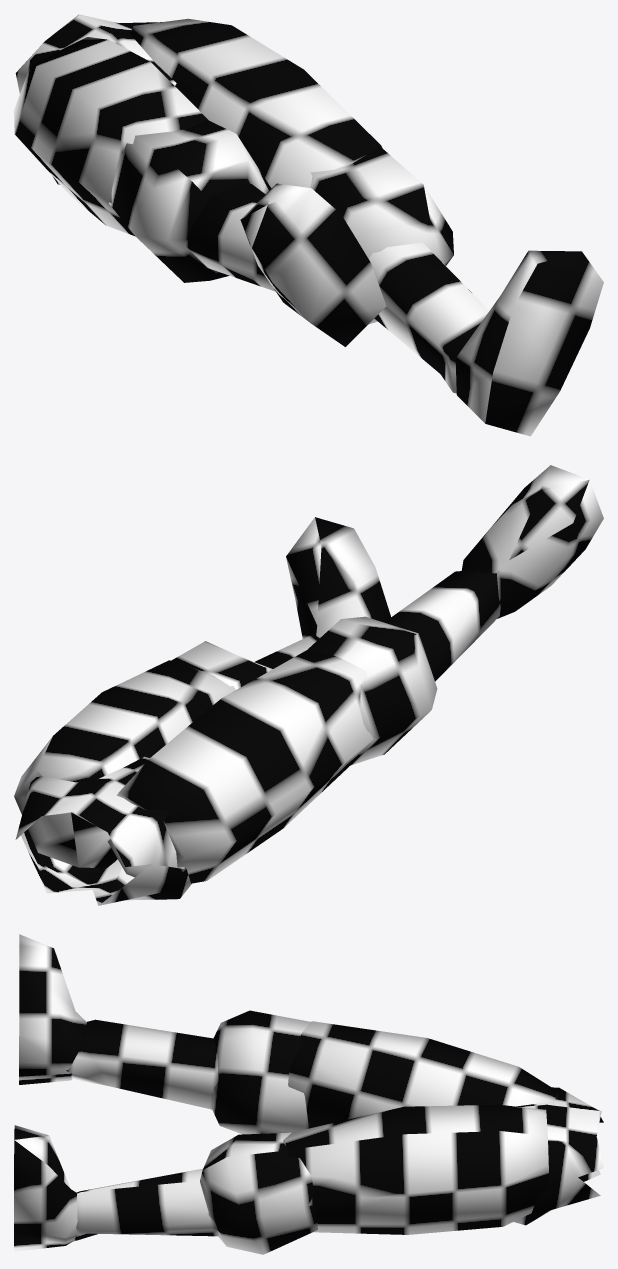
Rendered from initarlg15.dae.
3 views of the same model, one above another, from view 1: azimuth 30°, elevation 25°; view 2: azimuth 150°, elevation 25°; view 3: azimuth 270°, elevation 25° (orthographic). The views are drawn at different scales.
Visible parts, largest first — view 1: armor; view 2: armor; view 3: armor.
Boxes of the visible parts, x1,y1,x2,y2 form: armor: (14, 14, 603, 436); armor: (14, 465, 603, 905); armor: (14, 934, 603, 1254).
Size of the model in its own units: 0.851 by 1.65 by 0.6961.
1 material, 1 textured.
